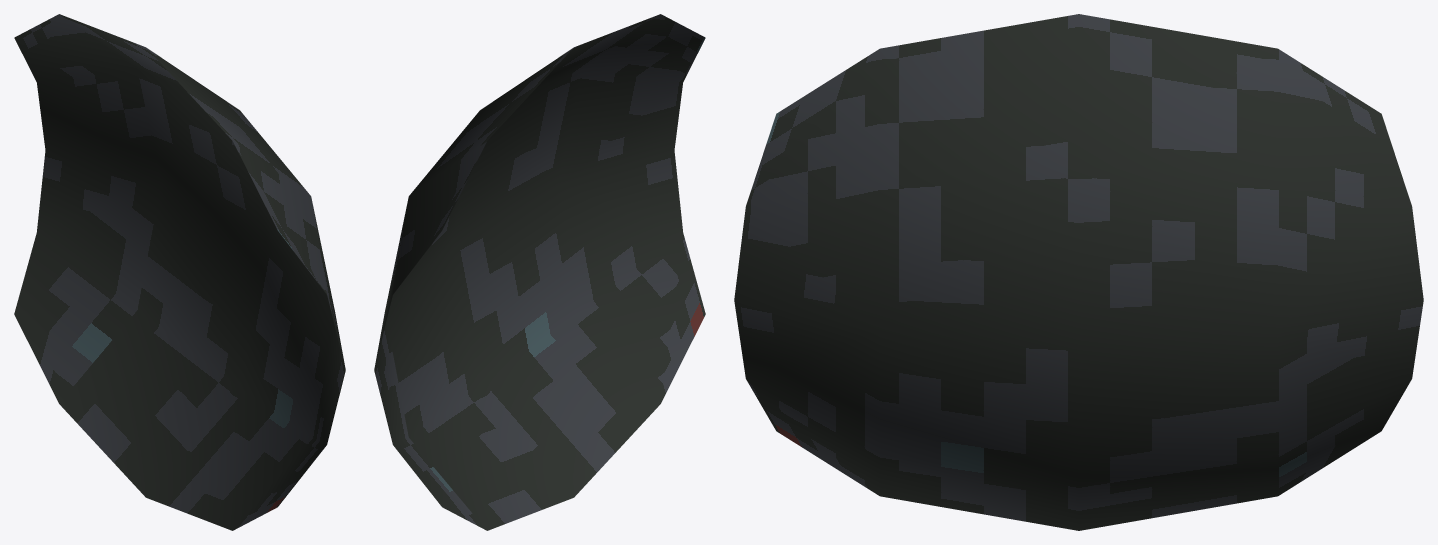
The model's file is BKSHIELD1.obj.
The picture shows the model from 3 angles, left to right: view 1: azimuth 30°, elevation 25°; view 2: azimuth 150°, elevation 25°; view 3: azimuth 270°, elevation 25°; orthographic projection. The views are drawn at different scales.
Parts seen in each view (by area): view 1: BKSHIELD1; view 2: BKSHIELD1; view 3: BKSHIELD1.
Boxes of the visible parts, bbox=[...] form: BKSHIELD1: bbox=[14, 14, 345, 530]; BKSHIELD1: bbox=[374, 14, 705, 530]; BKSHIELD1: bbox=[734, 14, 1423, 530].
Bounding box in the file's own units: 3.09 × 10.93 × 13.22.
Materials: 1 (1 with a texture image).
